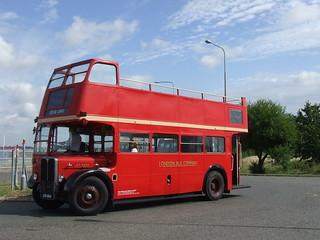motorbike: (3, 14, 254, 204)
